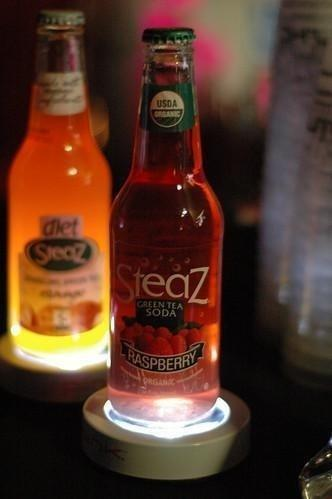bottle-glass: (107, 26, 227, 426), (4, 7, 114, 358)
